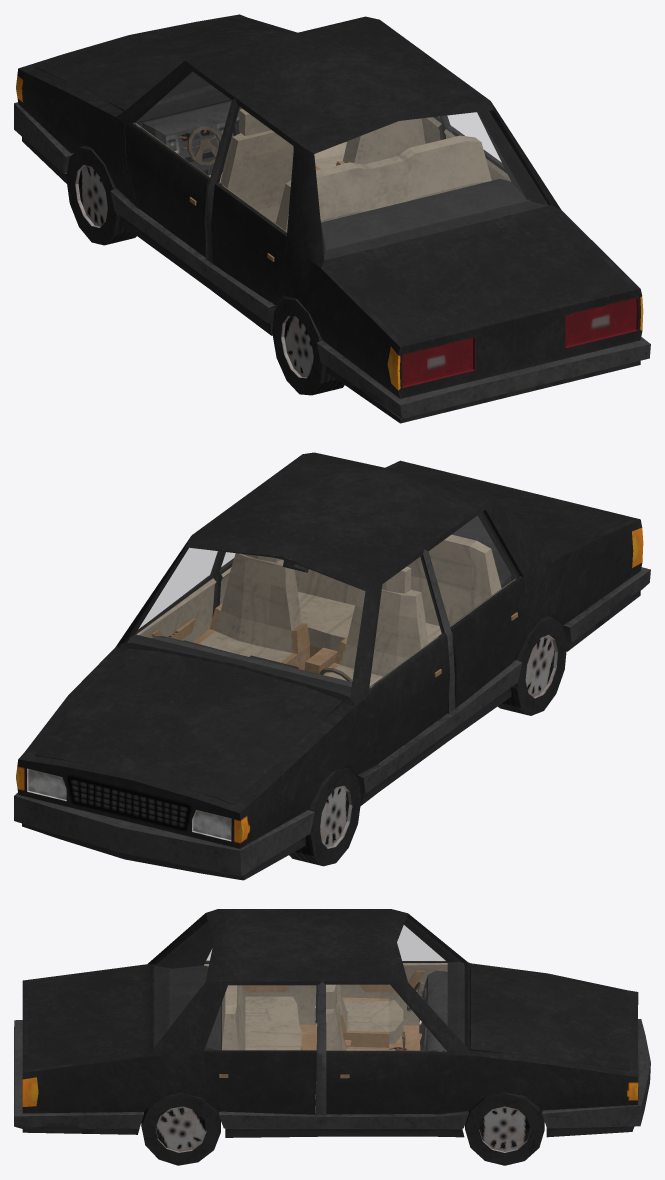
The model's file is Car.glb.
3 renders of one model, top to bottom at view 1: azimuth 30°, elevation 25°; view 2: azimuth 150°, elevation 25°; view 3: azimuth 270°, elevation 25°, orthographic. The views are drawn at different scales.
Visible parts, largest first — view 1: Car_Base, Trunk, L_Door_Front, L_Door_Back, Car_Hood, L_Wheel_Back, L_Wheel_Front, R_Door_Back, SteeringWheel; view 2: Car_Base, Car_Hood, L_Door_Front, L_Door_Back, Trunk, R_Door_Front, L_Wheel_Front, L_Wheel_Back; view 3: Car_Base, R_Door_Front, R_Door_Back, Car_Hood, Trunk, R_Wheel_Front, R_Wheel_Back, L_Door_Front, L_Door_Back.
Boxes of the visible parts, box(x1,y1,x2,y2) form: Car_Base: box(14, 14, 650, 423); Trunk: box(331, 215, 630, 341); L_Door_Front: box(124, 72, 231, 257); L_Door_Back: box(211, 108, 293, 301); Car_Hood: box(35, 18, 287, 111); L_Wheel_Back: box(272, 297, 344, 395); L_Wheel_Front: box(66, 145, 136, 245); R_Door_Back: box(442, 113, 510, 181); SteeringWheel: box(187, 126, 221, 165); Car_Base: box(14, 452, 650, 880); Car_Hood: box(34, 648, 342, 804); L_Door_Front: box(364, 557, 450, 763); L_Door_Back: box(429, 512, 524, 708); Trunk: box(392, 464, 630, 553); R_Door_Front: box(135, 548, 217, 642); L_Wheel_Front: box(289, 766, 361, 866); L_Wheel_Back: box(498, 616, 566, 715); Car_Base: box(14, 909, 650, 1137); R_Door_Front: box(326, 985, 456, 1114); R_Door_Back: box(203, 986, 317, 1114); Car_Hood: box(469, 967, 630, 1070); Trunk: box(28, 967, 141, 1069); R_Wheel_Front: box(465, 1093, 544, 1165); R_Wheel_Back: box(141, 1093, 220, 1165); L_Door_Front: box(340, 926, 447, 1025); L_Door_Back: box(204, 953, 316, 1024).
Bounding box in the file's own units: 2.56 × 2.23 × 7.1.
4 materials, 4 textured.
